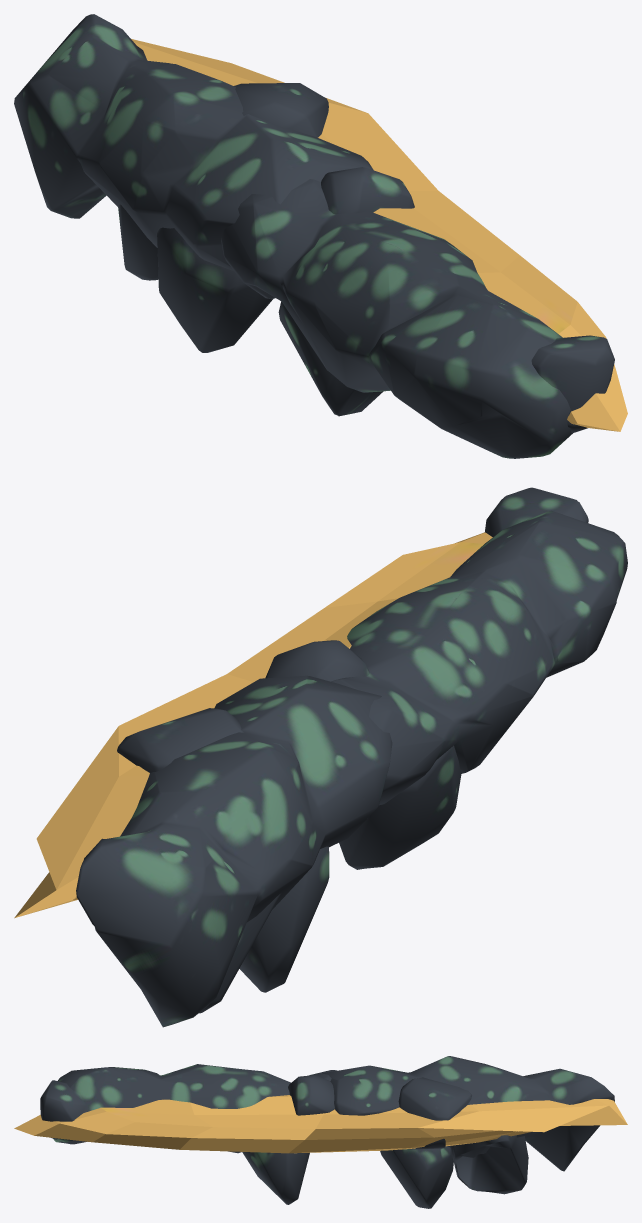
Rendered from rockcliff1.obj.
3 views of the same model, one above another, from view 1: azimuth 30°, elevation 25°; view 2: azimuth 150°, elevation 25°; view 3: azimuth 270°, elevation 25° (orthographic). The views are drawn at different scales.
Visible parts, largest first — view 1: Cube.011; view 2: Cube.011; view 3: Cube.011.
Part boxes in pixels (x1,y1,x2,y2): Cube.011: [14, 14, 627, 458]; Cube.011: [14, 487, 627, 1027]; Cube.011: [14, 1056, 627, 1208].
Bounding box in the file's own units: 3.96 × 4.35 × 16.49.
Materials: 1 (1 with a texture image).
